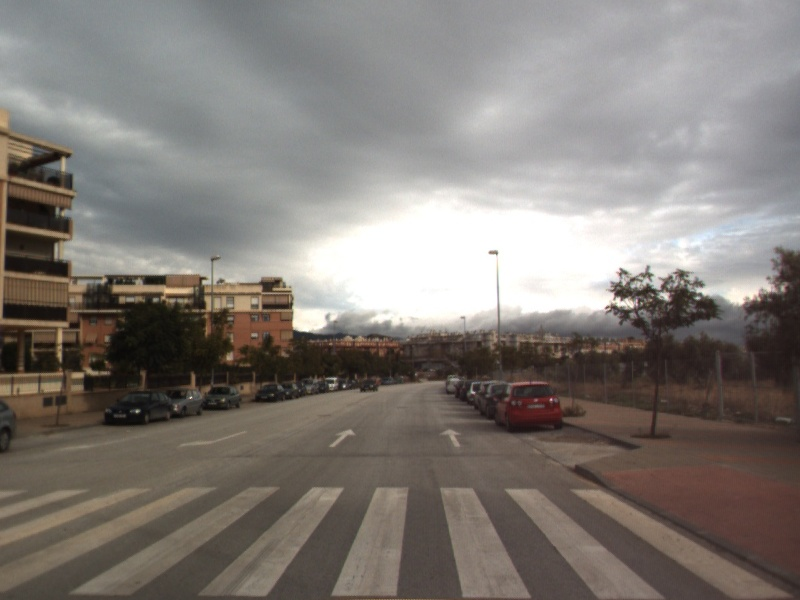STRAIGHT: (327, 426, 358, 449), (438, 427, 464, 449)
